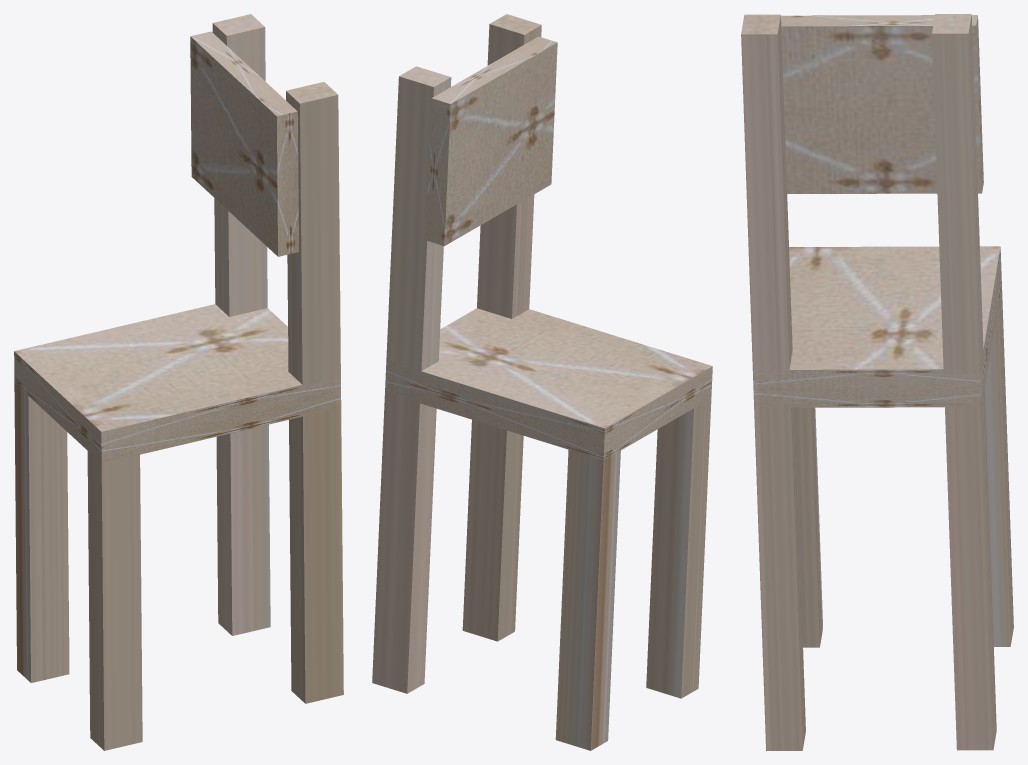
File: chaise6.gltf
The picture shows the model from 3 angles, left to right: view 1: azimuth 30°, elevation 25°; view 2: azimuth 150°, elevation 25°; view 3: azimuth 270°, elevation 25°; orthographic projection. The views are drawn at different scales.
Parts seen in each view (by area): view 1: chaise6; view 2: chaise6; view 3: chaise6.
Boxes of the visible parts, x1,y1,x2,y2 form: chaise6: [14, 14, 343, 750]; chaise6: [372, 14, 712, 750]; chaise6: [741, 14, 1013, 750].
Size of the model in its own units: 1.33 by 3.16 by 1.08.
Materials: 1 (1 with a texture image).
